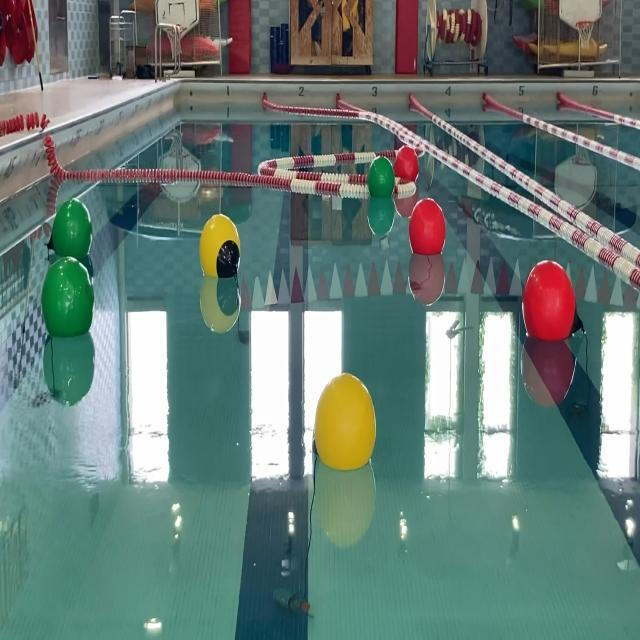buoy: (312, 375, 378, 470), (525, 257, 586, 345), (40, 255, 94, 344), (47, 197, 92, 260), (202, 214, 241, 282), (411, 196, 446, 258), (367, 158, 394, 198), (395, 149, 418, 183)
